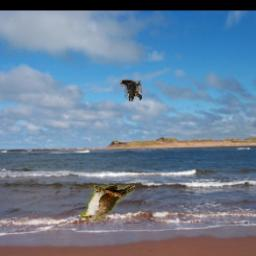Cuckoo: (81, 185, 136, 220)
Swallow: (121, 80, 143, 102)
